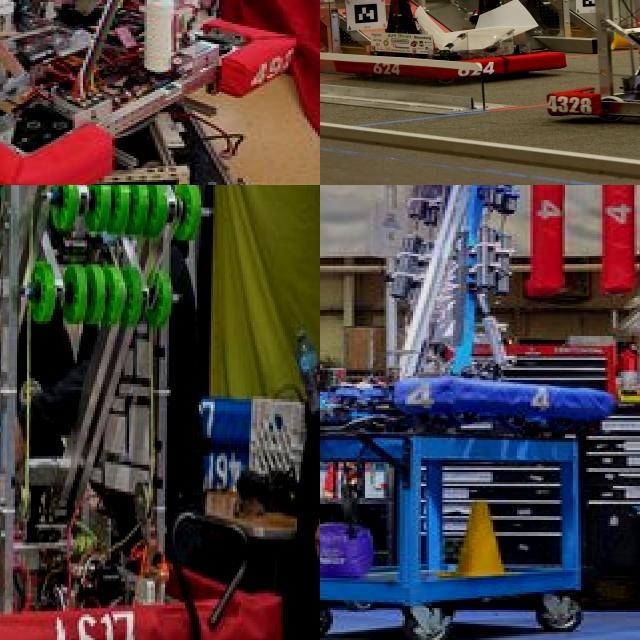FRC-Robots: (0, 185, 295, 640), (320, 185, 637, 432), (0, 0, 316, 185), (320, 0, 543, 97), (548, 0, 640, 138)
